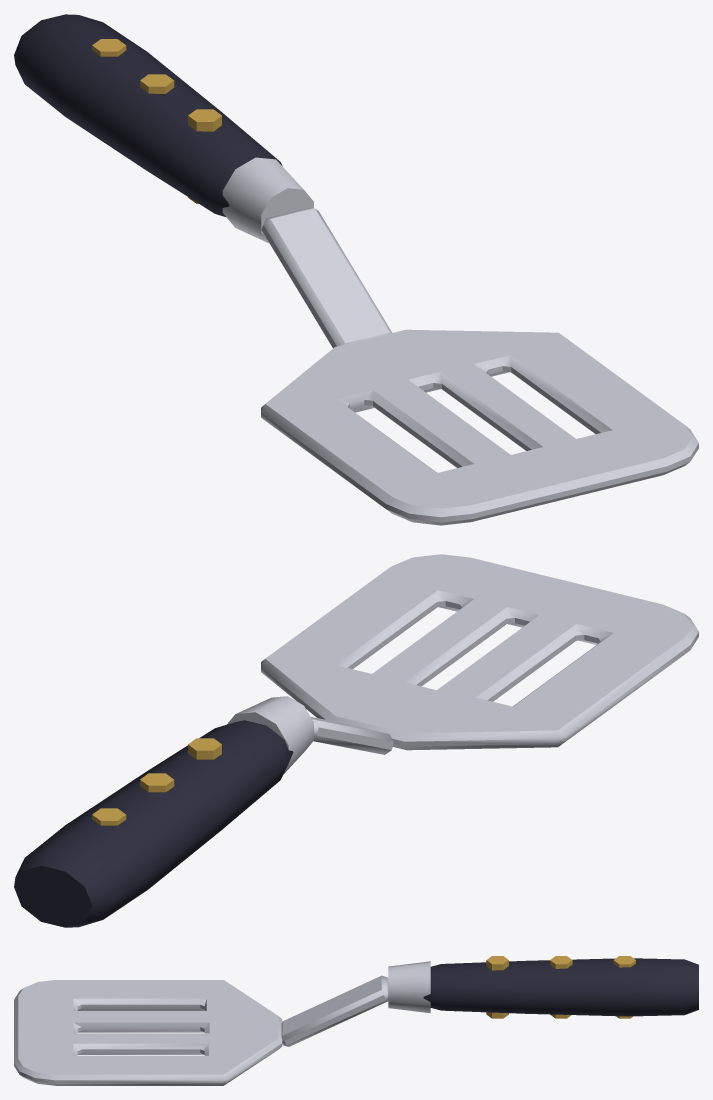
File: Cosmetic_Spatula.fbx
3 views of the same model, one above another, from view 1: azimuth 30°, elevation 25°; view 2: azimuth 150°, elevation 25°; view 3: azimuth 270°, elevation 25° (orthographic). The views are drawn at different scales.
Visible parts, largest first — view 1: Blade, Handle, Rivets; view 2: Blade, Handle, Rivets; view 3: Blade, Handle, Rivets.
Part boxes in pixels (<box>): Blade: <box>222,157,698,525</box>; Handle: <box>14,14,282,216</box>; Rivets: <box>92,39,221,203</box>; Blade: <box>227,554,698,774</box>; Handle: <box>14,720,293,927</box>; Rivets: <box>92,738,221,825</box>; Blade: <box>14,961,430,1085</box>; Handle: <box>423,958,698,1016</box>; Rivets: <box>486,956,635,1018</box>.
Bounding box in the file's own units: 66 × 24.96 × 194.
